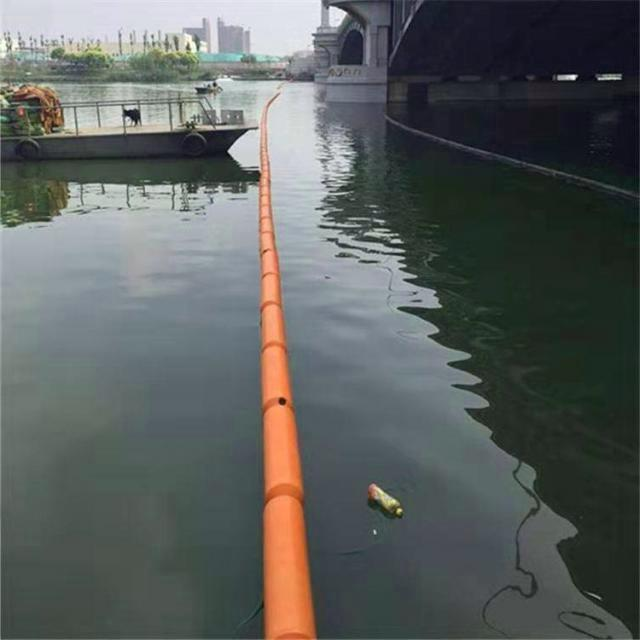Plastic: (358, 475, 403, 525)
